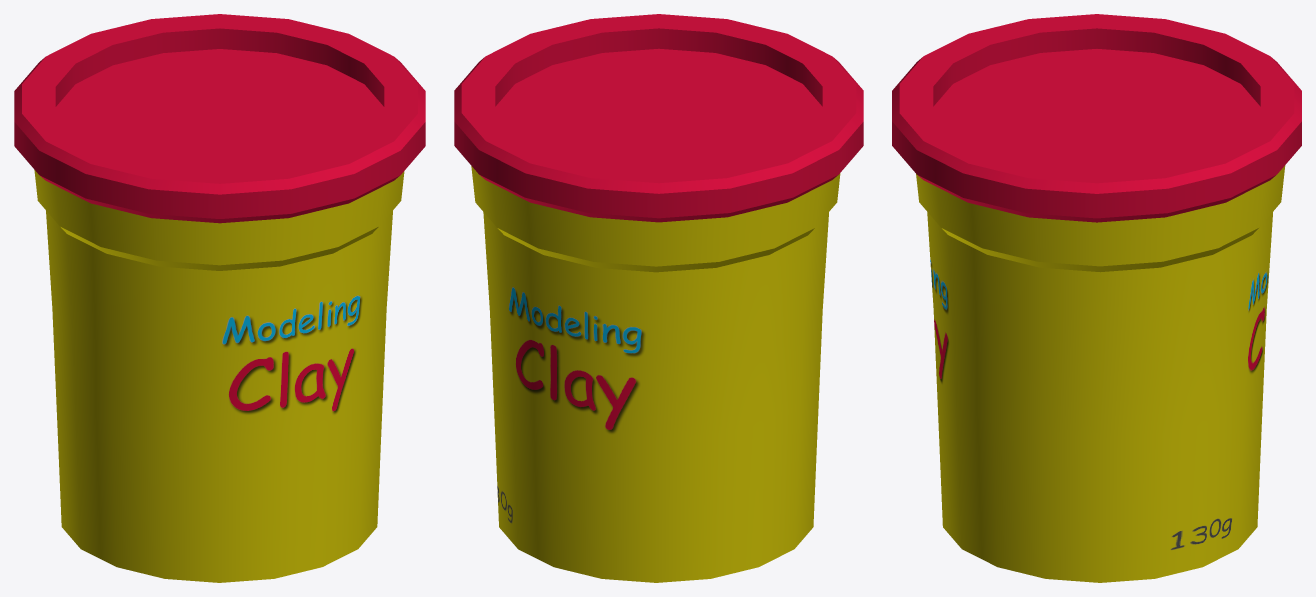
Rendered from Clay.FBX.
3 renders of one model, left to right at view 1: azimuth 30°, elevation 25°; view 2: azimuth 150°, elevation 25°; view 3: azimuth 270°, elevation 25°, orthographic.
Parts seen in each view (by area): view 1: Clay; view 2: Clay; view 3: Clay.
Part boxes in pixels (x1,y1,x2,y2): Clay: (14, 14, 425, 582); Clay: (454, 14, 863, 582); Clay: (892, 14, 1301, 582).
Bounding box in the file's own units: 10.44 × 11.52 × 10.28.
Materials: 1 (1 with a texture image).
